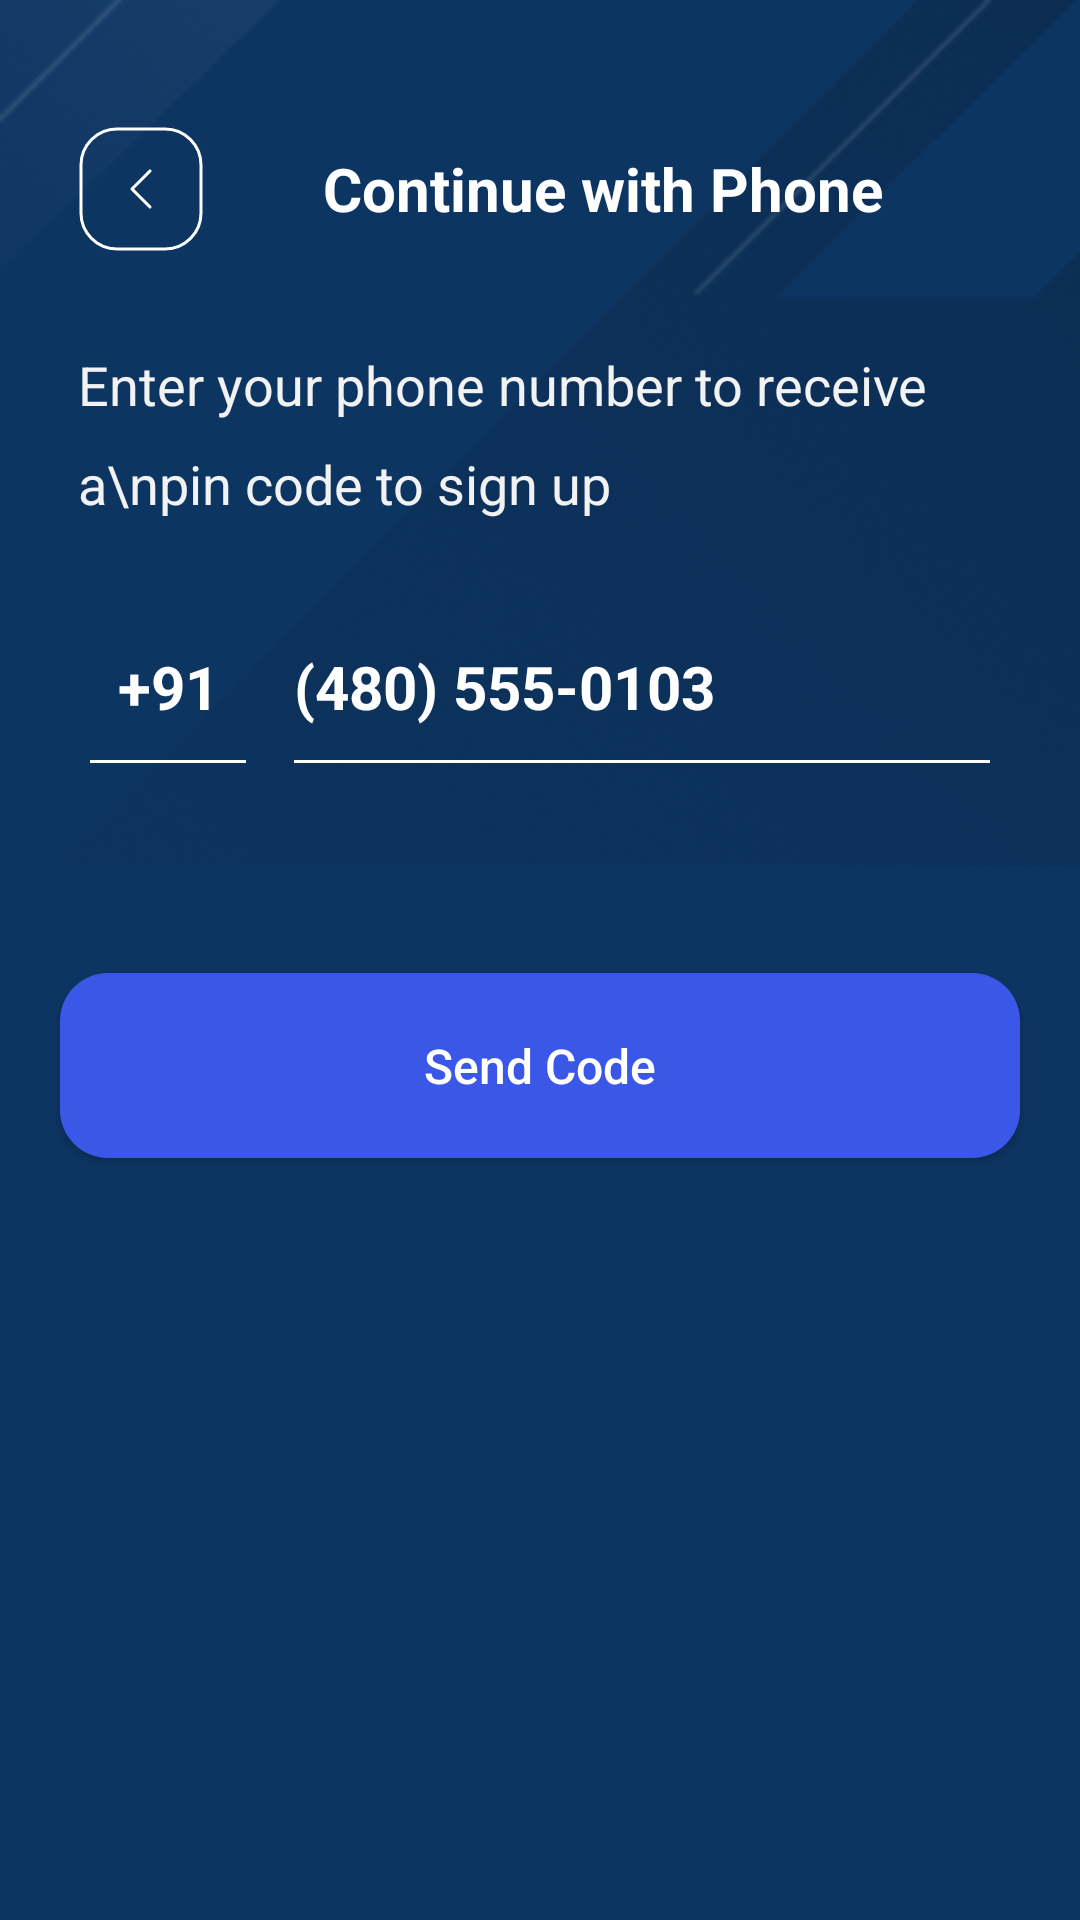

Where to tap for icons on this 1080x1920 app screen, as (x=x, y=y):
back: (x=141, y=189)
